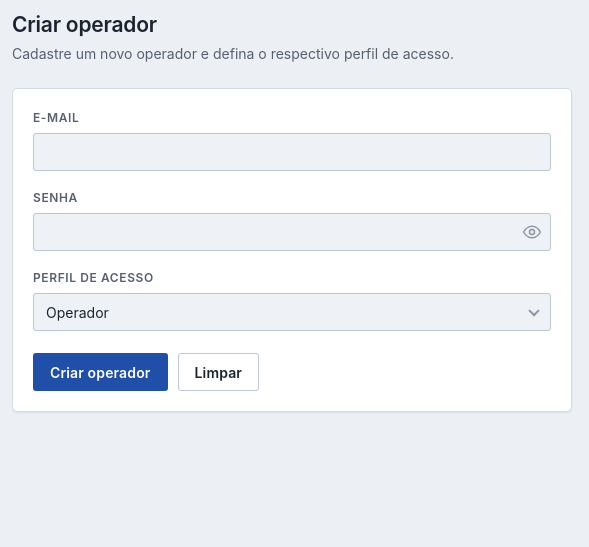
Test: CreateOperatorPage › mostra o erro do perfil junto do seletor
Type "nova@example.test" into the field labelled "E-mail" at {"x": 292, "y": 152}, box top-left (33, 133), bottom-right (551, 171)
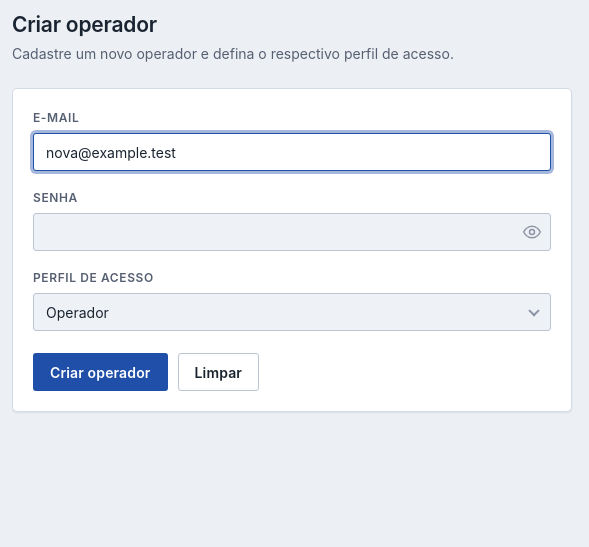
Type "senha-secreta" into the password field labelled "Senha" at {"x": 292, "y": 232}, box top-left (33, 213), bottom-right (551, 251)
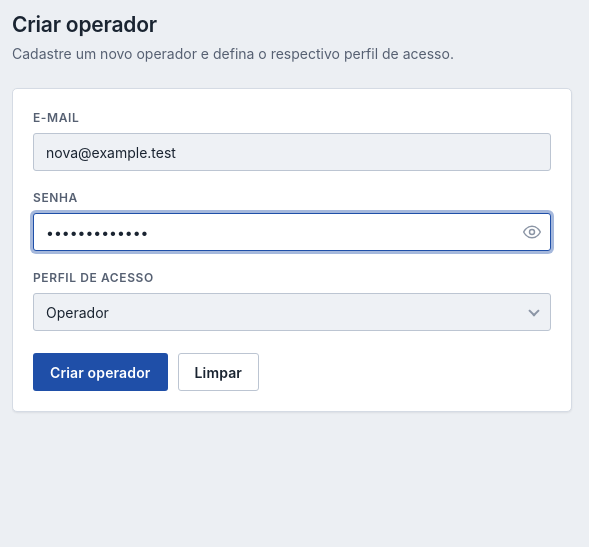
Select "Administrador" in the dropdown labelled "Perfil de acesso" at {"x": 292, "y": 312}, box top-left (33, 293), bottom-right (551, 331)
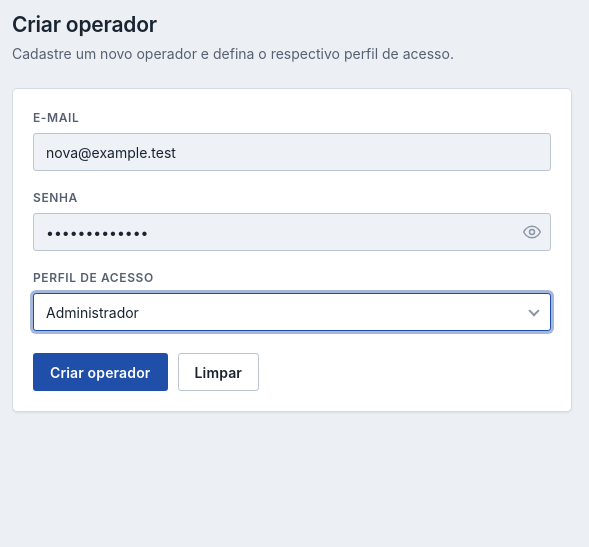
Click the button "Criar operador" at {"x": 100, "y": 372}, box top-left (33, 353), bottom-right (168, 391)
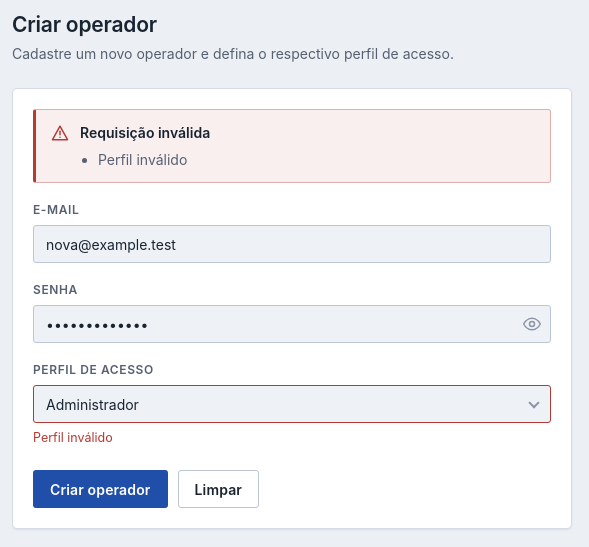
Expected: the text "Requisição inválida" is shown, top-left (80, 122), bottom-right (210, 143)
